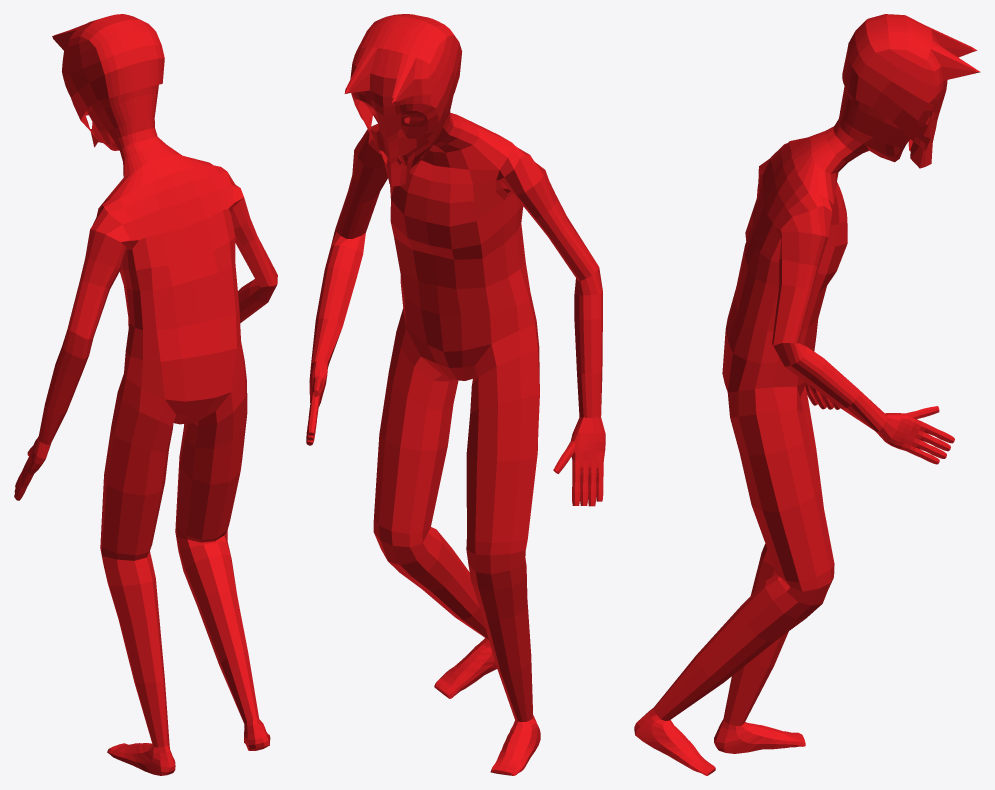
Rendered from marchaE_000047.obj.
3 renders of one model, left to right at view 1: azimuth 30°, elevation 25°; view 2: azimuth 150°, elevation 25°; view 3: azimuth 270°, elevation 25°, orthographic. The views are drawn at different scales.
Parts seen in each view (by area): view 1: Plane.002_Plane.001; view 2: Plane.002_Plane.001; view 3: Plane.002_Plane.001.
Boxes of the visible parts, box(x1,y1,x2,y2) form: Plane.002_Plane.001: box(14, 14, 277, 775); Plane.002_Plane.001: box(306, 14, 605, 775); Plane.002_Plane.001: box(634, 14, 980, 775).
Bounding box in the file's own units: 2.51 × 6.69 × 2.82.
